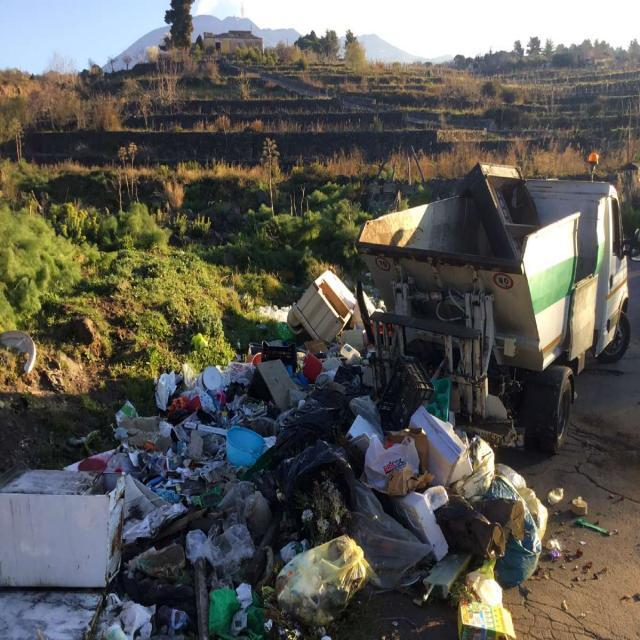garbage: (0, 329, 548, 640), (282, 268, 360, 338)
